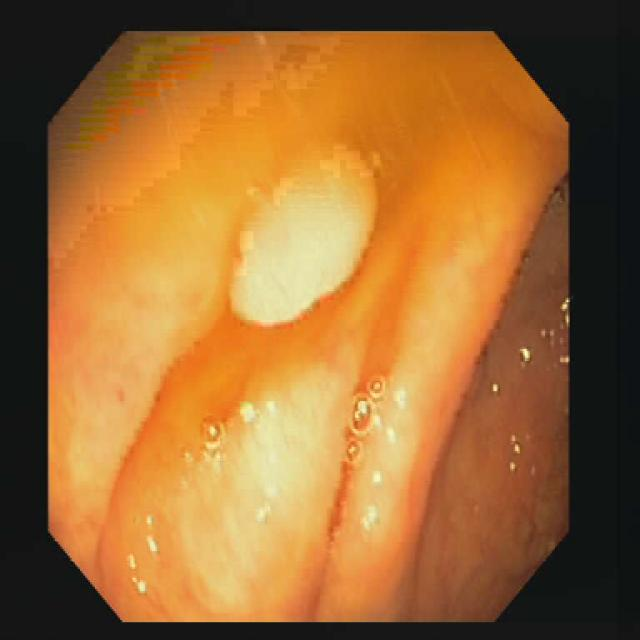tumor: (232, 156, 373, 324)
